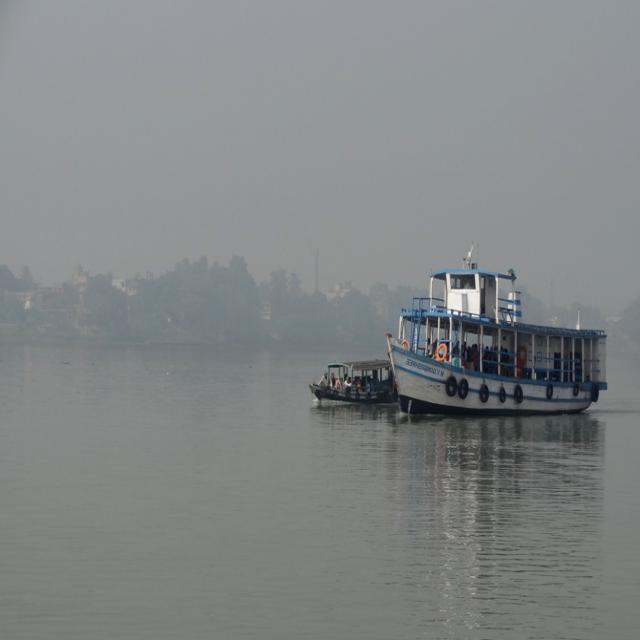passenger ship: (400, 268, 624, 416), (315, 347, 387, 421)
